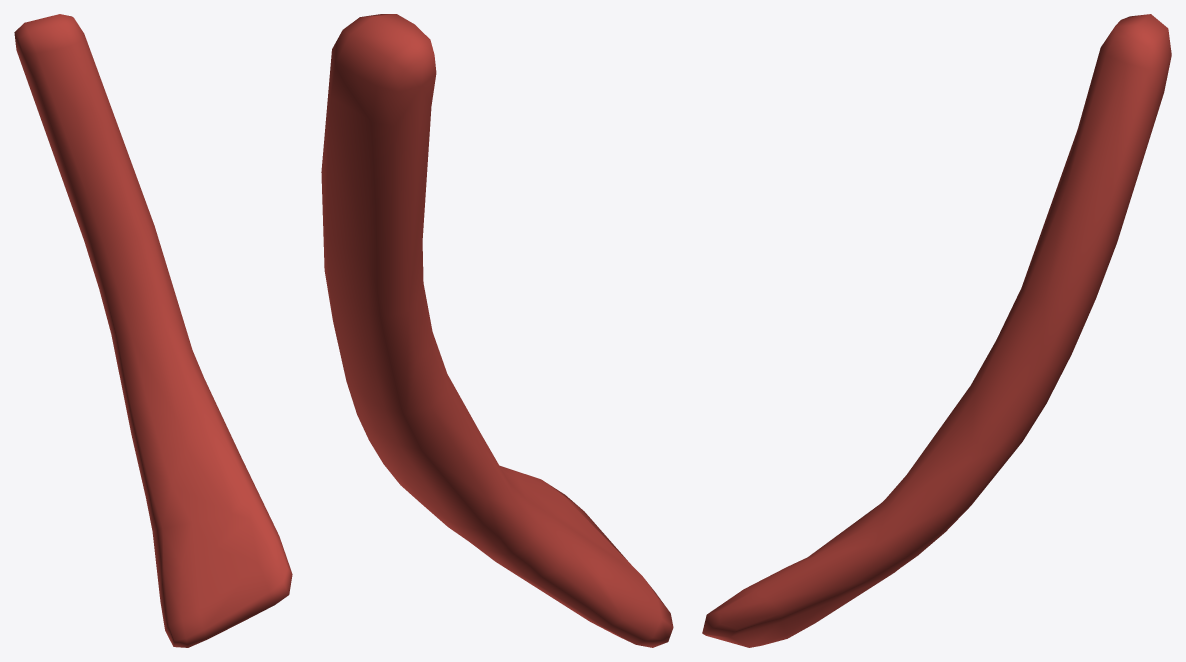
File: musculos-tendon-sheath-of-extensor-digitorum-longus-r.glb
The picture shows the model from 3 angles, left to right: view 1: azimuth 30°, elevation 25°; view 2: azimuth 150°, elevation 25°; view 3: azimuth 270°, elevation 25°; orthographic projection. The views are drawn at different scales.
Parts seen in each view (by area): view 1: Tendon sheath of extensor digitorum longus.r; view 2: Tendon sheath of extensor digitorum longus.r; view 3: Tendon sheath of extensor digitorum longus.r.
Part boxes in pixels (<box>): Tendon sheath of extensor digitorum longus.r: <box>14,14,292,647</box>; Tendon sheath of extensor digitorum longus.r: <box>321,14,673,647</box>; Tendon sheath of extensor digitorum longus.r: <box>702,14,1171,647</box>.
Bounding box in the file's own units: 0.0164 × 0.069 × 0.0462.
